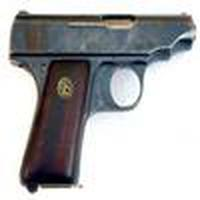gun: (7, 7, 194, 184)
